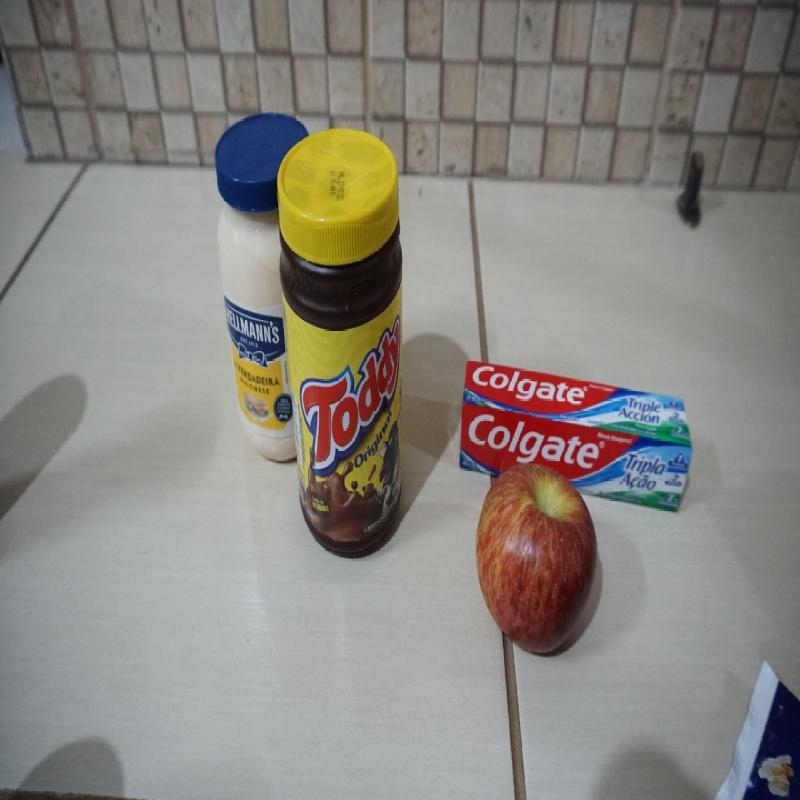Apple: (474, 462, 599, 656)
Chocolate Powder: (275, 124, 410, 565)
Mayonnaise: (214, 111, 305, 466)
Popcorn: (706, 650, 799, 799)
Toothpaste: (458, 357, 693, 516)
